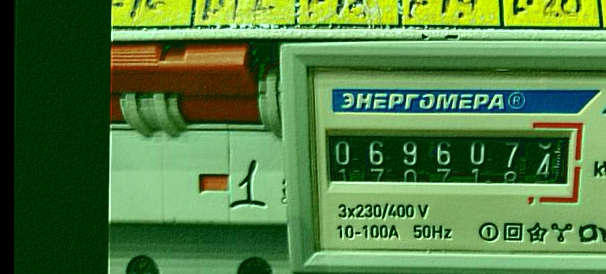0: (333, 138, 354, 167), (470, 137, 488, 167), (369, 139, 386, 165)
4: (536, 151, 553, 179)
6: (435, 137, 453, 167)
7: (503, 139, 521, 168)
9: (402, 138, 420, 167)
screen: (311, 115, 587, 203)
